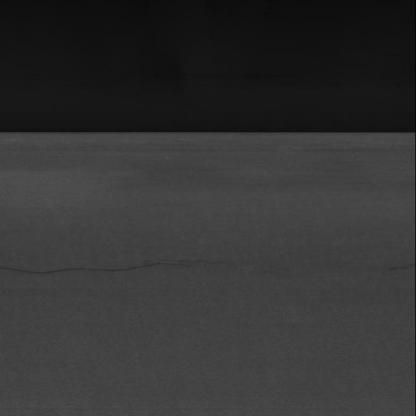water_spot: (9, 253, 199, 287)
